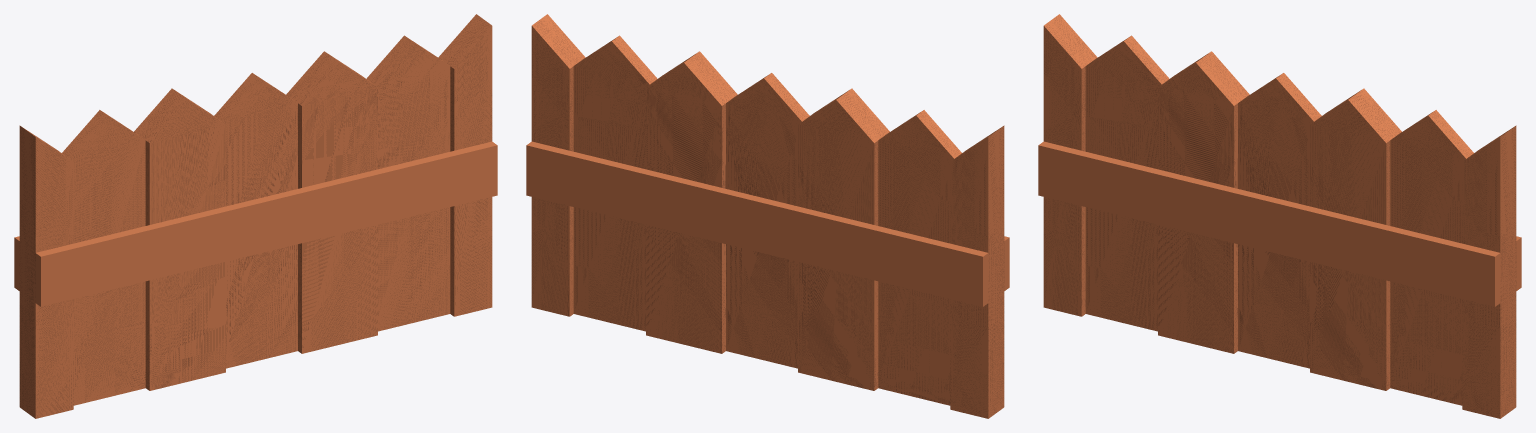
File: fence.obj
3 views of the same model, side by side, from view 1: azimuth 30°, elevation 25°; view 2: azimuth 150°, elevation 25°; view 3: azimuth 330°, elevation 25° (orthographic).
Visible parts, largest first — view 1: fence, board; view 2: fence, board; view 3: fence, board.
Boxes of the visible parts, x1,y1,x2,y2 form: fence: [19, 14, 492, 418]; board: [14, 141, 497, 306]; fence: [531, 14, 1004, 418]; board: [526, 141, 1009, 306]; fence: [1043, 14, 1516, 418]; board: [1038, 141, 1521, 306].
Size of the model in its own units: 1 by 0.59 by 0.1.
